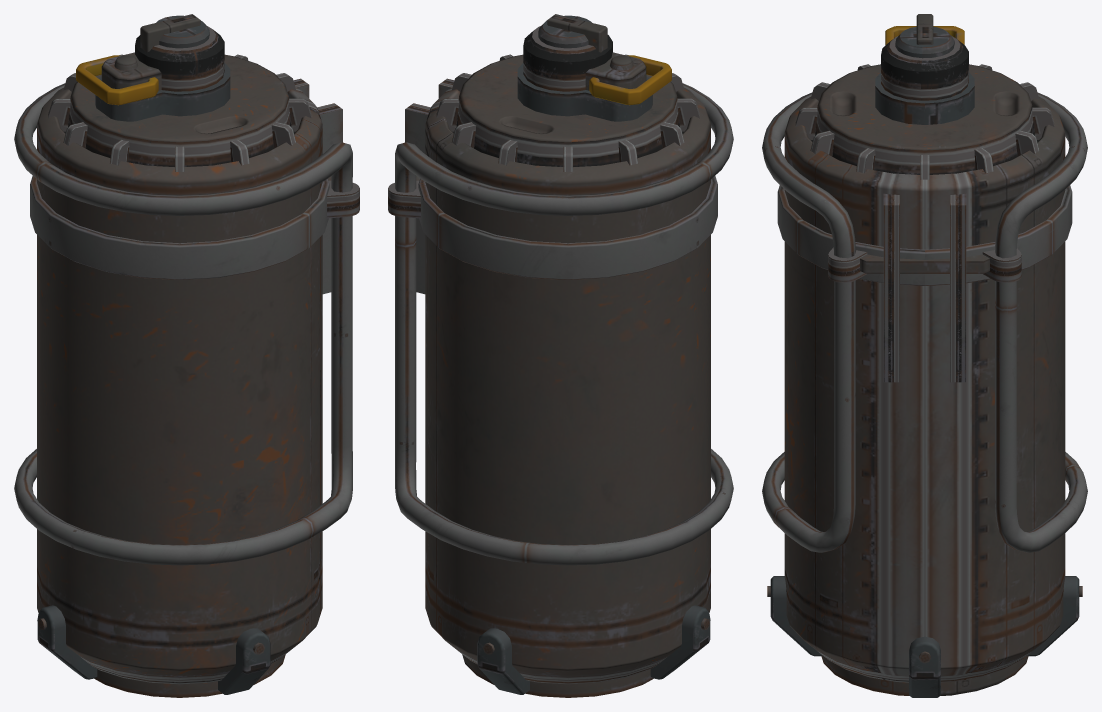
The model's file is Prop_Cylinder2_L0.fbx.
3 views of the same model, side by side, from view 1: azimuth 30°, elevation 25°; view 2: azimuth 150°, elevation 25°; view 3: azimuth 270°, elevation 25° (orthographic).
Visible parts, largest first — view 1: Prop_Cylinder2; view 2: Prop_Cylinder2; view 3: Prop_Cylinder2.
Part boxes in pixels (x1=…): Prop_Cylinder2: x1=14, y1=14, x2=359, y2=697; Prop_Cylinder2: x1=388, y1=14, x2=733, y2=697; Prop_Cylinder2: x1=762, y1=14, x2=1087, y2=697.
Size of the model in its own units: 79.36 by 169 by 80.05.
